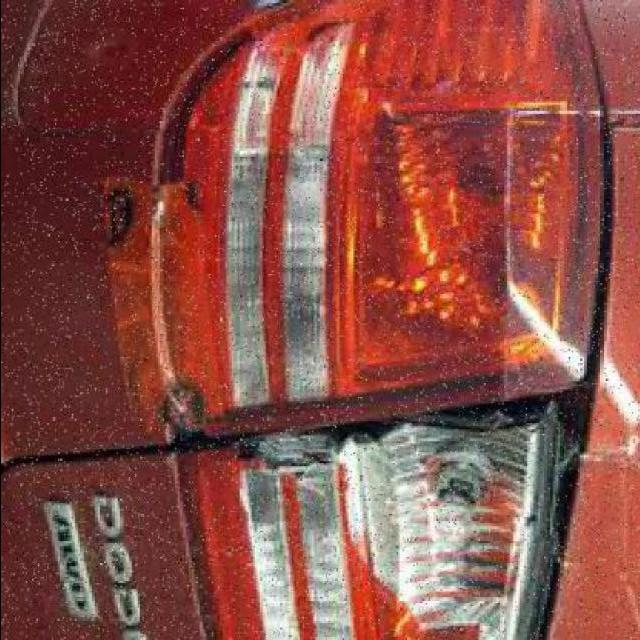Taillight-Damage: (133, 0, 620, 637)
